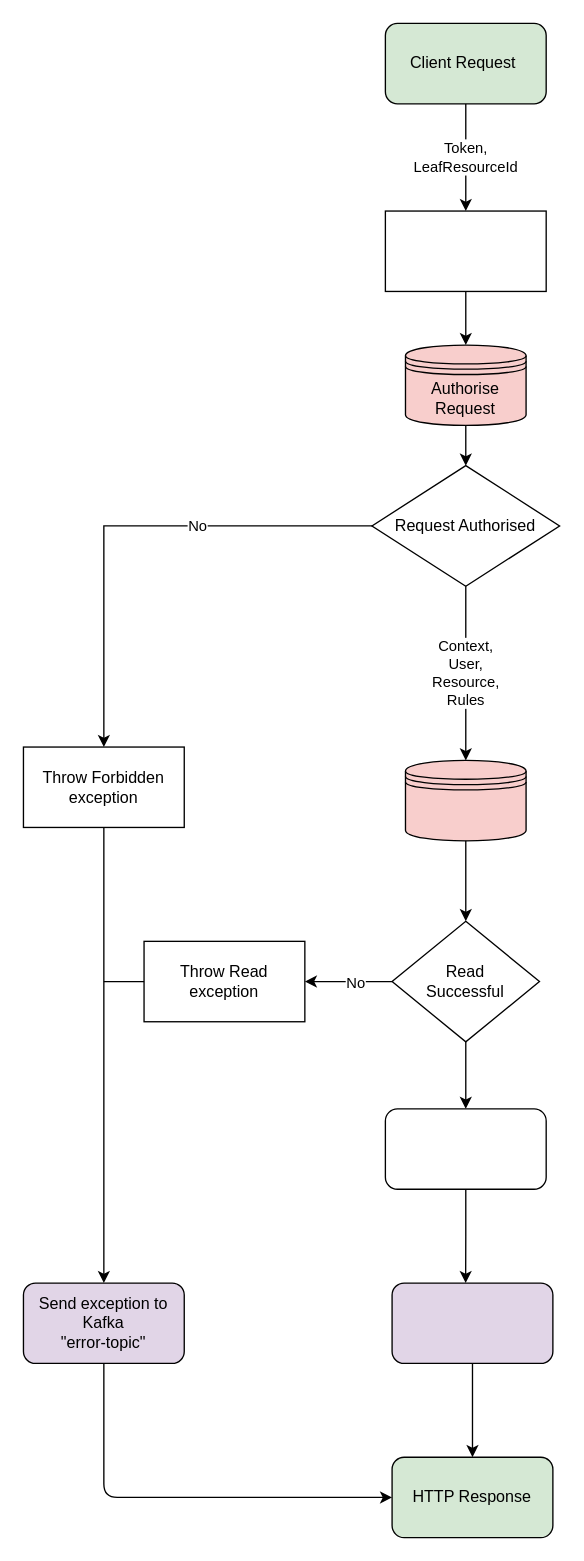
The diagram is 584 pixels wide and 1561 high, and some of its shapes have lost their labels. The box of each missing label's shape, as (x1, y1, x2, y2) in pixels:
Create Data Stream: (384, 1108, 546, 1189)
Data Service (DataController): (384, 210, 546, 291)
Read: (404, 759, 526, 841)
Send success to Kafka "success-topic": (391, 1282, 553, 1363)
